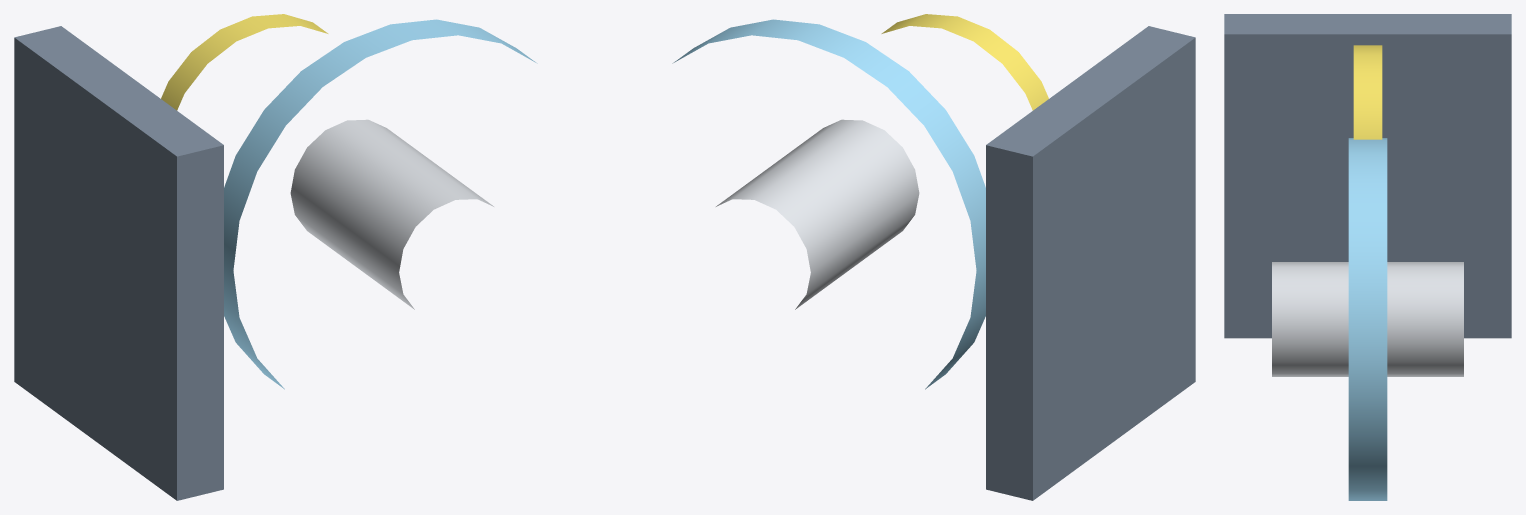
Rendered from double_purchase_crab_winch.glb.
3 views of the same model, side by side, from view 1: azimuth 30°, elevation 25°; view 2: azimuth 150°, elevation 25°; view 3: azimuth 270°, elevation 25° (orthographic). The views are drawn at different scales.
Visible parts, largest first — view 1: HeavyDutyTwinGantrySideFrames, HeavyLoadDrumWithSteelWireRope, SecondReductionMainGearWheelT4, FirstReductionPinionAndSpurWheel; view 2: HeavyDutyTwinGantrySideFrames, HeavyLoadDrumWithSteelWireRope, SecondReductionMainGearWheelT4, FirstReductionPinionAndSpurWheel; view 3: HeavyDutyTwinGantrySideFrames, HeavyLoadDrumWithSteelWireRope, SecondReductionMainGearWheelT4, FirstReductionPinionAndSpurWheel.
Boxes of the visible parts, box(x1,y1,x2,y2) form: HeavyDutyTwinGantrySideFrames: box(14, 26, 223, 500); HeavyLoadDrumWithSteelWireRope: box(290, 119, 493, 309); SecondReductionMainGearWheelT4: box(224, 19, 537, 389); FirstReductionPinionAndSpurWheel: box(161, 14, 328, 110); HeavyDutyTwinGantrySideFrames: box(986, 26, 1195, 500); HeavyLoadDrumWithSteelWireRope: box(716, 119, 919, 309); SecondReductionMainGearWheelT4: box(672, 19, 985, 389); FirstReductionPinionAndSpurWheel: box(881, 14, 1048, 110); HeavyDutyTwinGantrySideFrames: box(1224, 14, 1511, 338); HeavyLoadDrumWithSteelWireRope: box(1272, 262, 1463, 376); SecondReductionMainGearWheelT4: box(1348, 138, 1387, 500); FirstReductionPinionAndSpurWheel: box(1353, 45, 1382, 139).
Size of the model in its own units: 1.03 by 0.85 by 0.6.
